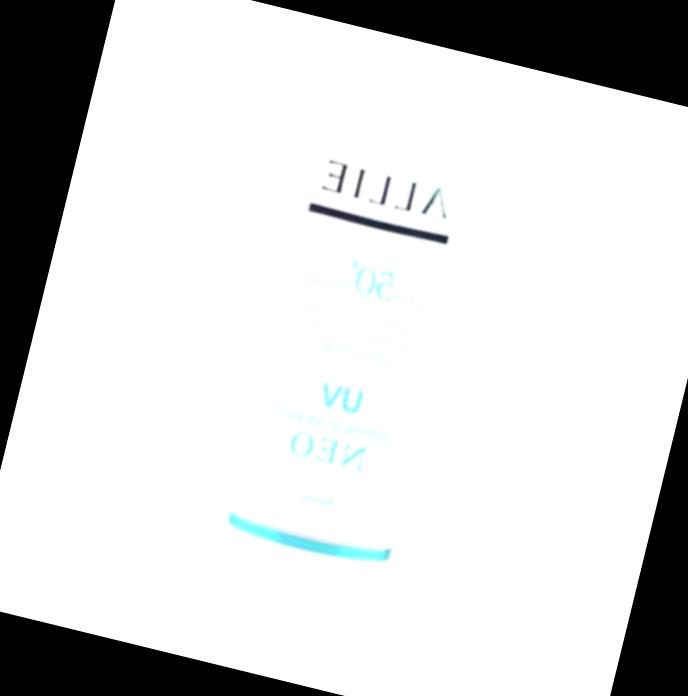cosmetic: (169, 51, 533, 666)
